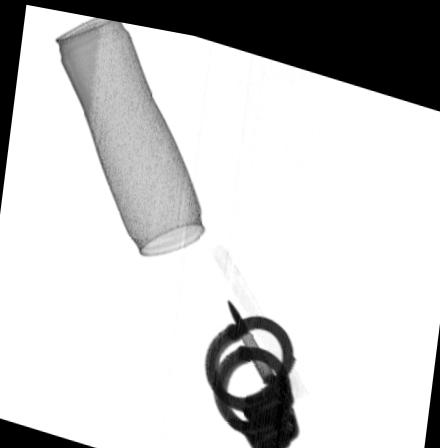Bullet: (226, 288, 275, 372)
HandCuffs: (203, 303, 300, 448)
